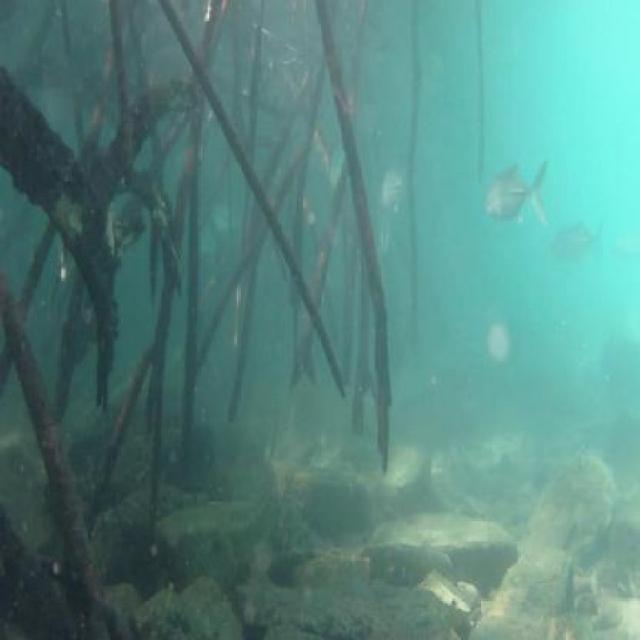Caranx_sexfasciatus_juvenile: (481, 158, 556, 235), (553, 212, 609, 274), (378, 161, 404, 214), (371, 205, 392, 269)
